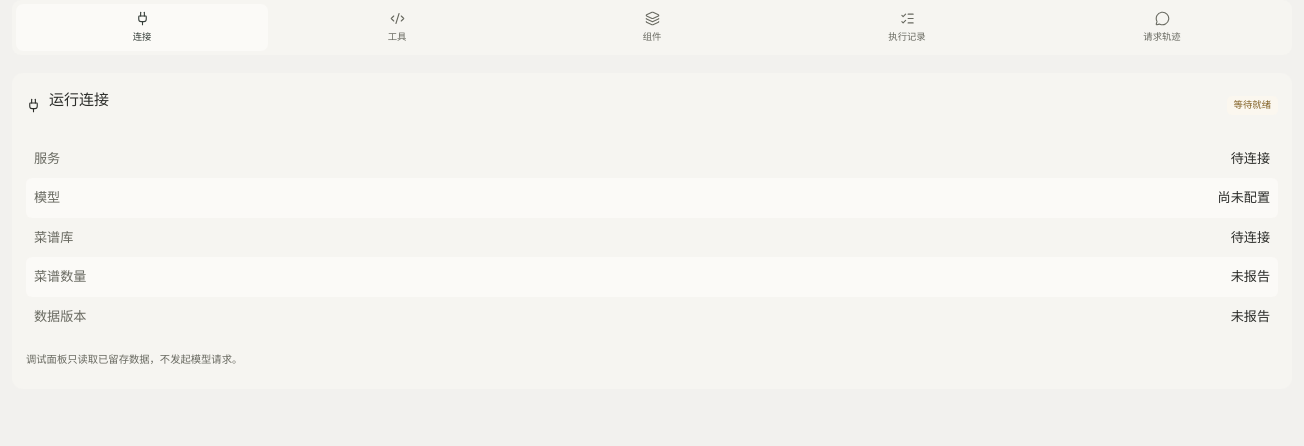
Test: developer diagnostics › keeps legacy logs readable while stating that complete model inputs were not retained
Click the tab "执行记录": (907, 28) [781,4,1033,51]
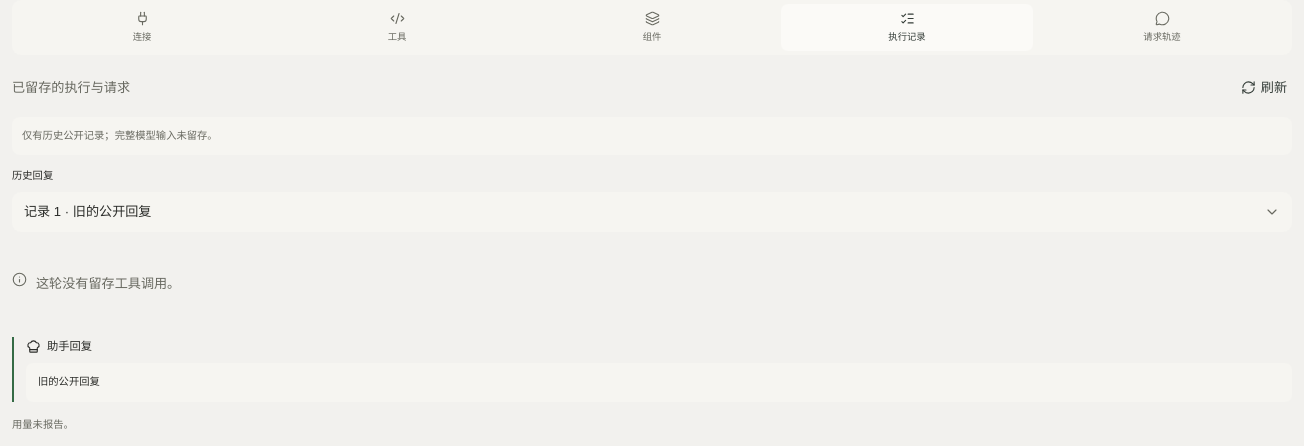
Check: the text "旧的公开回复" is shown, box [26,364,1292,402]
Check: the text "仅有历史公开记录；完整模型输入未留存。" is shown, box [12,117,1292,155]
Click the tab "请求轨迹": (1162, 28) [1036,4,1288,51]
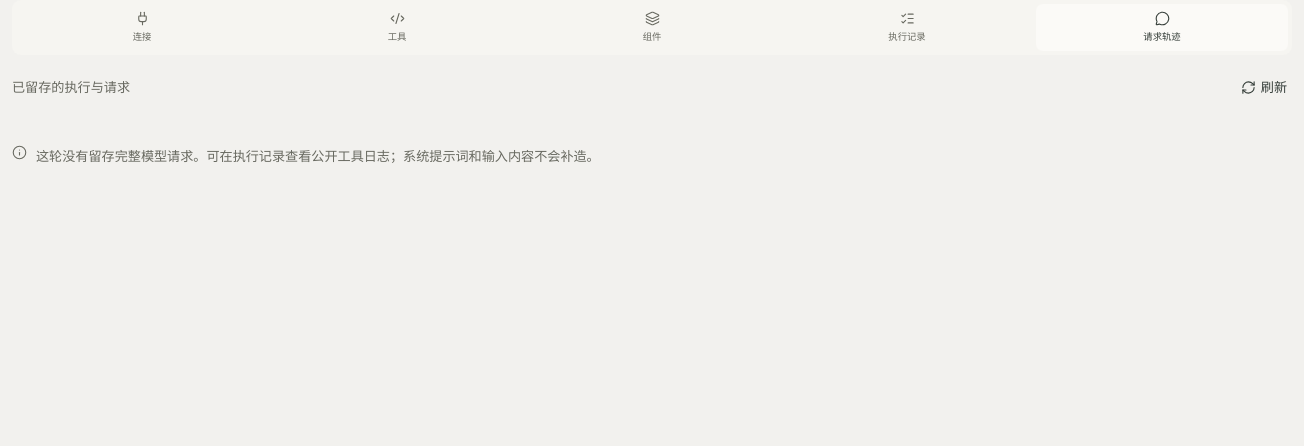
Check: the text "这轮没有留存完整模型请求。可在执行记录查看公开工具日志；系统提示词和输入内容不会补造。" is shown, box [36,145,600,168]
